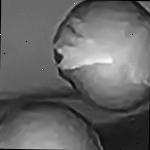colony: (47, 0, 150, 115), (0, 95, 109, 150)
